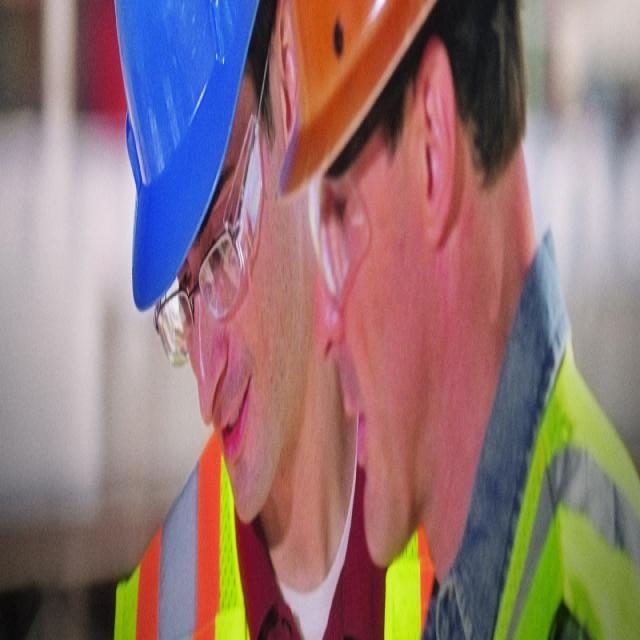goggles: (150, 101, 270, 378), (302, 158, 373, 297)
helmet: (113, 0, 260, 313), (280, 0, 440, 213)
vest: (107, 427, 350, 640), (486, 327, 640, 640)
